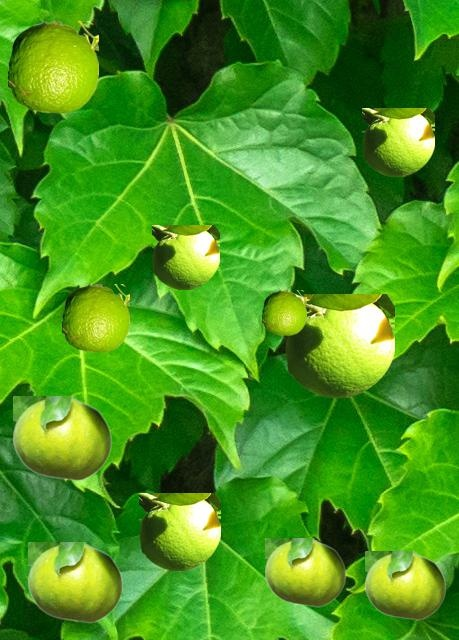dalandan: (285, 294, 393, 396), (13, 396, 111, 480), (8, 21, 97, 112), (28, 542, 122, 622), (139, 493, 219, 569), (265, 538, 345, 606), (365, 551, 445, 619), (362, 108, 433, 175), (62, 284, 128, 351), (152, 225, 218, 288), (262, 290, 305, 334)
